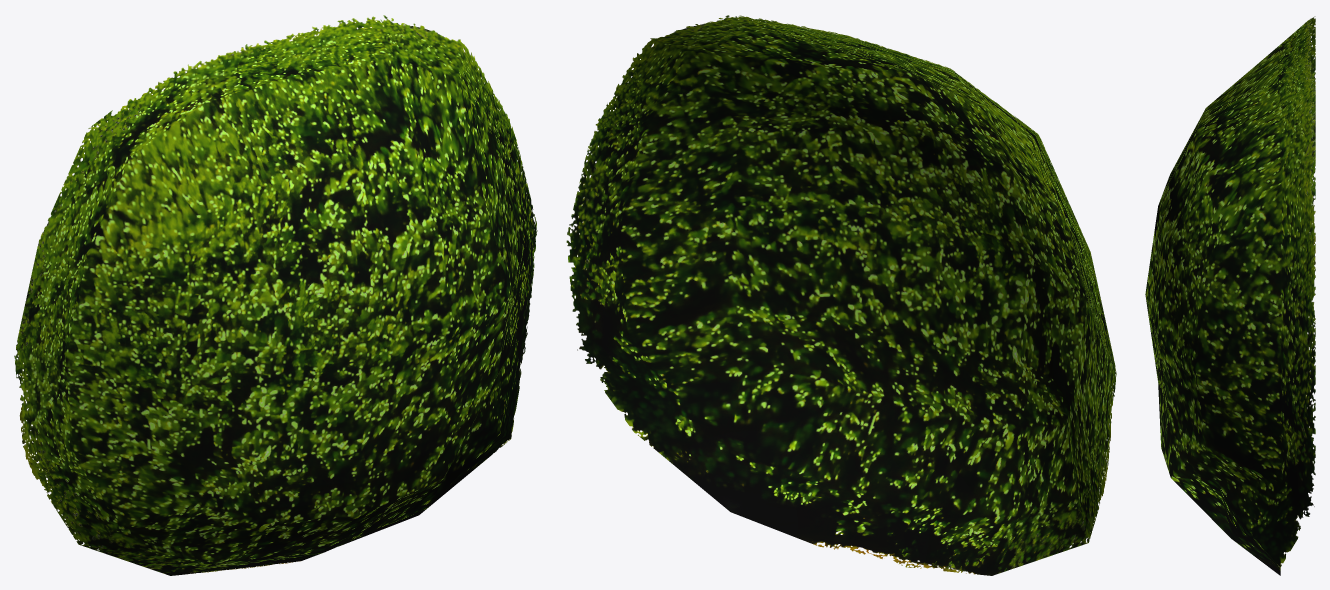
Rendered from HedgeRound_Detailed.fbx.
3 renders of one model, left to right at view 1: azimuth 30°, elevation 25°; view 2: azimuth 150°, elevation 25°; view 3: azimuth 270°, elevation 25°, orthographic. The views are drawn at different scales.
Parts seen in each view (by area): view 1: RoundHedge; view 2: RoundHedge; view 3: RoundHedge.
Boxes of the visible parts, bbox=[...] form: RoundHedge: bbox=[14, 15, 537, 575]; RoundHedge: bbox=[566, 15, 1116, 575]; RoundHedge: bbox=[1145, 16, 1315, 575].
Bounding box in the file's own units: 2.39 × 2.26 × 0.7219.
Materials: 1 (1 with a texture image).
